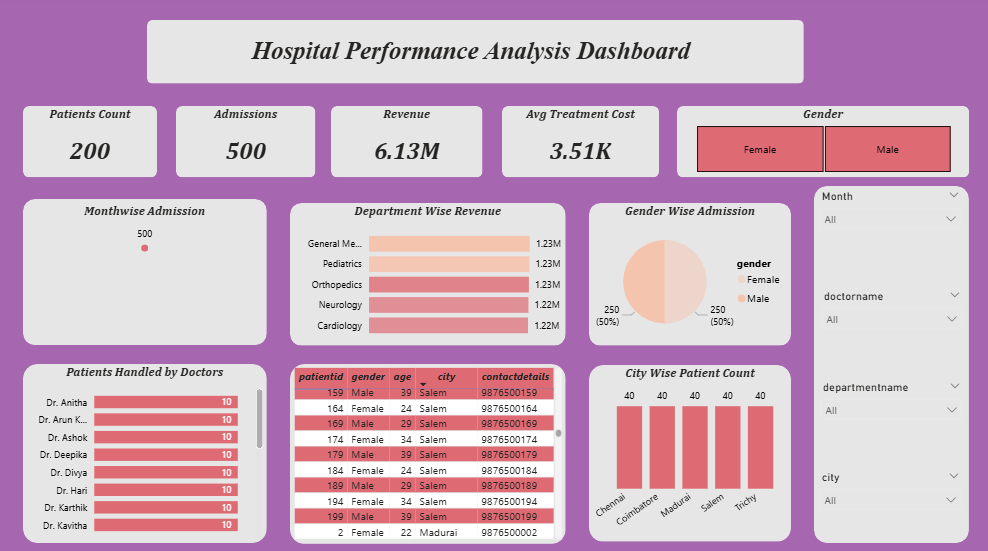

The dashboard page shown, as its layout file describes it:
{"tool":"powerbi","page":{"name":"Page 1","canvas":[1280,720],"ordinal":0},"visuals":[{"type":"shape","box":[877.3,141.7,377,92.1],"z":0},{"type":"shape","box":[652,141.7,202.7,92.1],"z":1000},{"type":"shape","box":[430.9,141.7,195.6,92.1],"z":2000},{"type":"shape","box":[231,141.7,180,92.1],"z":3000},{"type":"shape","box":[34,141.7,172.9,92.1],"z":4000},{"type":"shape","box":[1054.5,245.2,199.8,460.6],"z":5000},{"type":"shape","box":[763.9,476.2,260.8,228.2],"z":6000},{"type":"shape","box":[763.9,266.5,260.8,184.3],"z":7000},{"type":"shape","box":[34,474.8,314.6,231],"z":8000},{"type":"shape","box":[378.4,266.5,355.7,184.3],"z":9000},{"type":"shape","box":[34,262.2,314.6,188.5],"z":10000},{"type":"cardVisual","title":"Patients Count","fields":{"Data":["patients.Total Patients"]},"box":[32.6,141.7,175.7,92.1],"z":11000},{"type":"cardVisual","title":"Admissions","fields":{"Data":["admissions.Total Admissions"]},"box":[231,141.7,180,92.1],"z":12000},{"type":"cardVisual","title":"Avg Treatment Cost","fields":{"Data":["billing.Avg Treatment Cost"]},"box":[652,141.7,202.7,92.1],"z":13000},{"type":"cardVisual","title":"Revenue","fields":{"Data":["billing.Total Revenue"]},"box":[430.9,141.7,195.6,92.1],"z":14000},{"type":"lineChart","title":"Monthwise Admission","fields":{"Category":["admissions.admitdate.Variation.Date Hierarchy.Month"],"Y":["admissions.Total Admissions"]},"box":[33.6,267.1,314.1,184.8],"z":15000},{"type":"clusteredBarChart","title":"Department Wise Revenue","fields":{"Category":["departments.departmentname"],"Y":["billing.Total Revenue"]},"box":[378.4,266.5,355.7,184.3],"z":16000},{"type":"barChart","title":"Patients Handled by Doctors","fields":{"Category":["doctors.doctorname"],"Y":["patients.Total Patients"]},"box":[33.6,475.4,314.1,231.8],"z":17000},{"type":"pieChart","title":"Gender Wise Admission","fields":{"Category":["patients.gender"],"Y":["admissions.Total Admissions"]},"box":[763.9,266.5,260.8,184.3],"z":18000},{"type":"columnChart","title":"City Wise Patient Count","fields":{"Category":["patients.city"],"Y":["patients.Total Patients"]},"box":[763.9,476.2,260.8,229.6],"z":19000},{"type":"slicer","fields":{"Values":["doctors.doctorname"]},"box":[1054.3,374.4,200.9,100.5],"z":20000},{"type":"slicer","fields":{"Values":["departments.departmentname"]},"box":[1052.9,491.4,202.3,100.5],"z":21000},{"type":"slicer","fields":{"Values":["patients.city"]},"box":[1051.5,608.3,202.3,97.7],"z":22000},{"type":"slicer","fields":{"Values":["admissions.admitdate.Variation.Date Hierarchy.Month"]},"box":[1051.5,245,202.3,93.6],"z":23000},{"type":"slicer","title":"Gender","fields":{"Values":["patients.gender"]},"box":[877.3,141.7,377,92.1],"z":24000},{"type":"shape","box":[194.2,31.2,847.6,82.2],"z":25000},{"type":"textbox","box":[206.9,48.2,805,49.6],"z":26000},{"type":"shape","box":[378.4,474.8,355.7,232.4],"z":26500},{"type":"tableEx","fields":{"Values":["patients.patientid","patients.gender","patients.age","patients.city","patients.contactdetails"]},"box":[378.4,474.8,355.7,231],"z":27000}]}

Visuals, with their boxes in screenshot pixels (x1, y1, x2, y2), scaled from the page's 1280x720 canvas onto the 988x551 screenshot:
shape: x1=677, y1=108, x2=968, y2=179
shape: x1=503, y1=108, x2=660, y2=179
shape: x1=333, y1=108, x2=484, y2=179
shape: x1=178, y1=108, x2=317, y2=179
shape: x1=26, y1=108, x2=160, y2=179
shape: x1=814, y1=188, x2=968, y2=540
shape: x1=590, y1=364, x2=791, y2=539
shape: x1=590, y1=204, x2=791, y2=345
shape: x1=26, y1=363, x2=269, y2=540
shape: x1=292, y1=204, x2=567, y2=345
shape: x1=26, y1=201, x2=269, y2=345
"Patients Count" cardVisual: x1=25, y1=108, x2=161, y2=179
"Admissions" cardVisual: x1=178, y1=108, x2=317, y2=179
"Avg Treatment Cost" cardVisual: x1=503, y1=108, x2=660, y2=179
"Revenue" cardVisual: x1=333, y1=108, x2=484, y2=179
"Monthwise Admission" lineChart: x1=26, y1=204, x2=268, y2=346
"Department Wise Revenue" clusteredBarChart: x1=292, y1=204, x2=567, y2=345
"Patients Handled by Doctors" barChart: x1=26, y1=364, x2=268, y2=541
"Gender Wise Admission" pieChart: x1=590, y1=204, x2=791, y2=345
"City Wise Patient Count" columnChart: x1=590, y1=364, x2=791, y2=540
slicer - doctors.doctorname: x1=814, y1=287, x2=969, y2=363
slicer - departments.departmentname: x1=813, y1=376, x2=969, y2=453
slicer - patients.city: x1=812, y1=466, x2=968, y2=540
slicer - admissions.admitdate.Variation.Date Hierarchy.Month: x1=812, y1=187, x2=968, y2=259
"Gender" slicer: x1=677, y1=108, x2=968, y2=179
shape: x1=150, y1=24, x2=804, y2=87
textbox: x1=160, y1=37, x2=781, y2=75
shape: x1=292, y1=363, x2=567, y2=541
tableEx - patients.patientid x patients.gender: x1=292, y1=363, x2=567, y2=540
